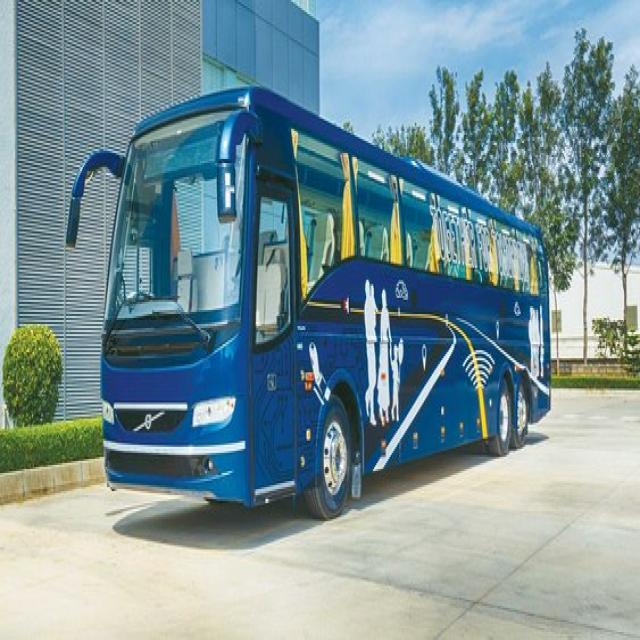bus: (66, 86, 549, 515)
